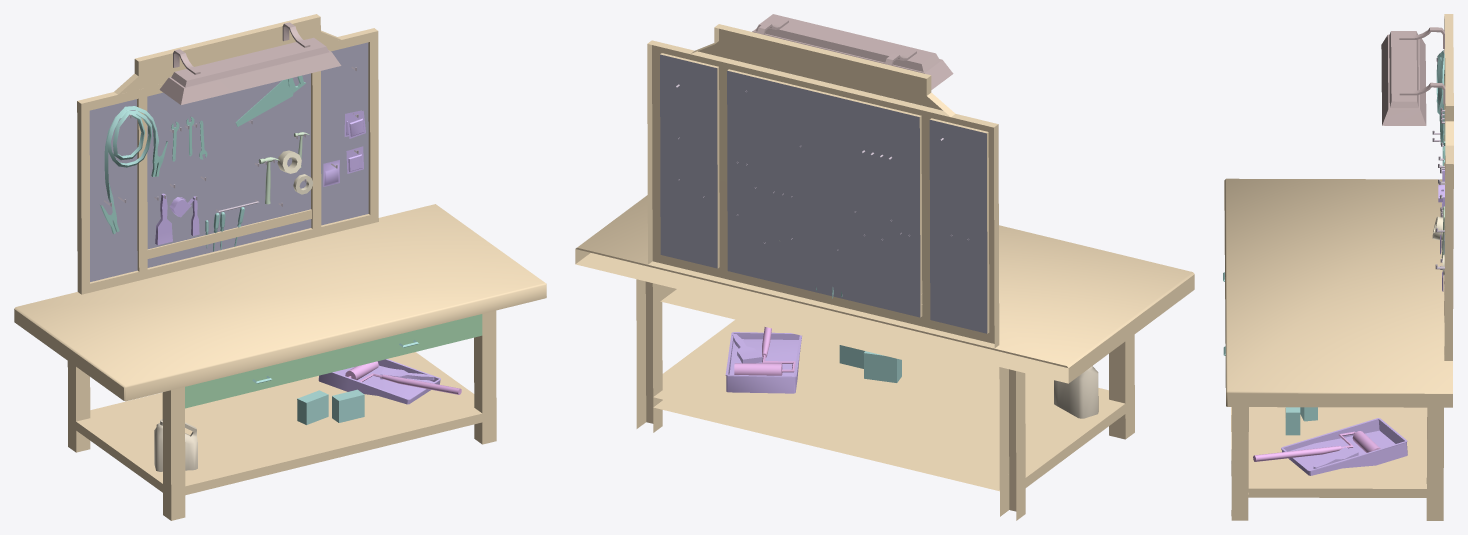
File: tablework3.fbx
3 views of the same model, side by side, from view 1: azimuth 30°, elevation 25°; view 2: azimuth 150°, elevation 25°; view 3: azimuth 270°, elevation 25° (orthographic). The views are drawn at different scales.
Visible parts, largest first — view 1: 1, 2; view 2: 1, 2; view 3: 1, 2.
Part boxes in pixels (box(x1,y1,x2,y2)): 1: box(14, 14, 546, 520); 2: box(89, 22, 482, 408); 1: box(575, 24, 1194, 520); 2: box(660, 14, 987, 333); 1: box(1223, 14, 1453, 520); 2: box(1381, 27, 1445, 275).
Size of the model in its own units: 332 by 277 by 151.
